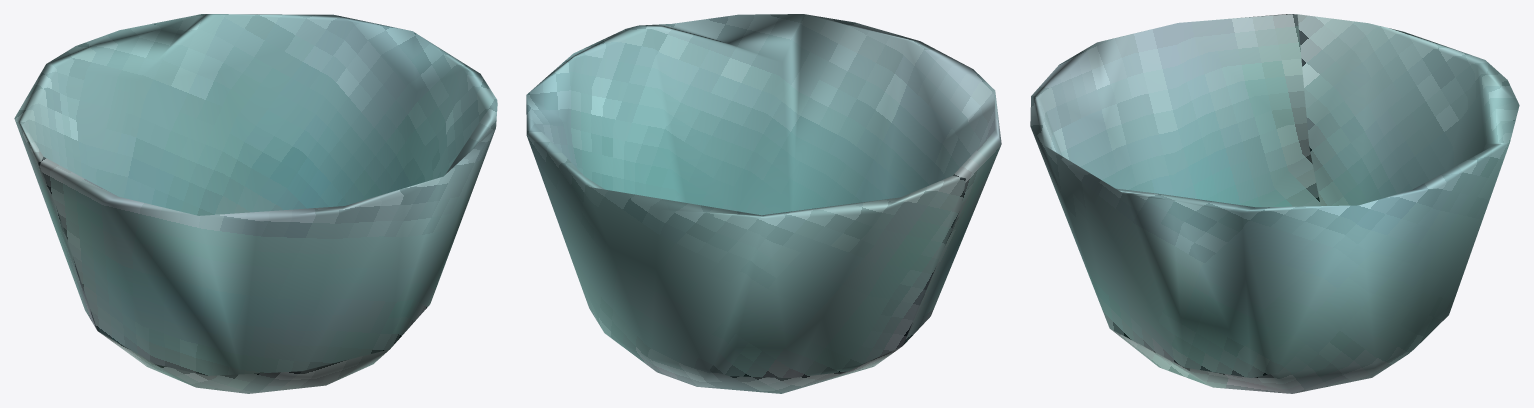
Rendered from Room_Essentials_Bowl_Turquiose-low.glb.
3 views of the same model, side by side, from view 1: azimuth 30°, elevation 25°; view 2: azimuth 150°, elevation 25°; view 3: azimuth 270°, elevation 25° (orthographic).
Visible parts, largest first — view 1: Room_Essentials_Bowl_Turquiose; view 2: Room_Essentials_Bowl_Turquiose; view 3: Room_Essentials_Bowl_Turquiose.
Boxes of the visible parts, bbox=[...] form: Room_Essentials_Bowl_Turquiose: bbox=[14, 14, 497, 393]; Room_Essentials_Bowl_Turquiose: bbox=[526, 14, 1001, 393]; Room_Essentials_Bowl_Turquiose: bbox=[1030, 14, 1519, 393].
Size of the model in its own units: 0.1561 by 0.0822 by 0.1562.
1 material, 1 textured.
